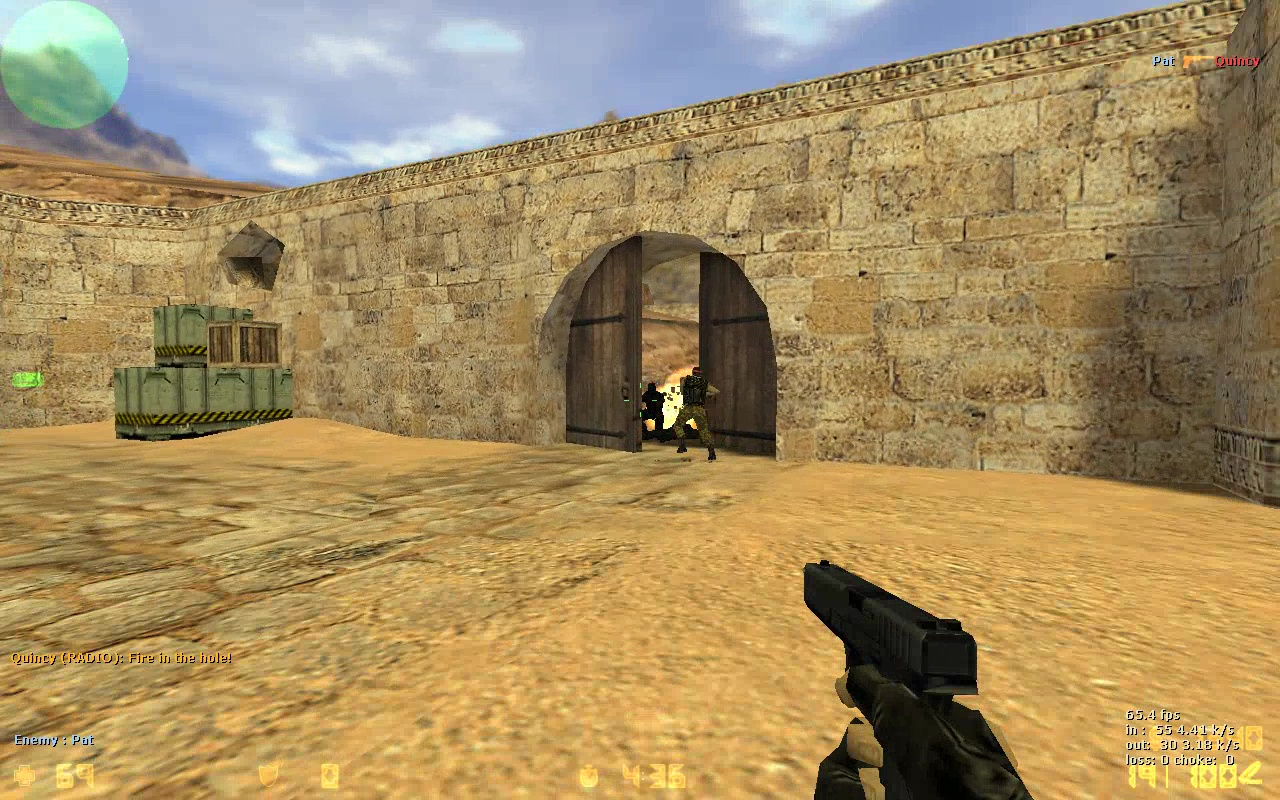ct: (639, 385, 666, 446)
terr1: (677, 365, 720, 463)
